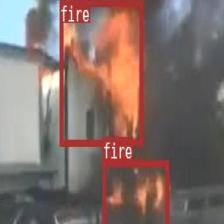fire: (60, 0, 142, 145), (102, 159, 168, 224)
